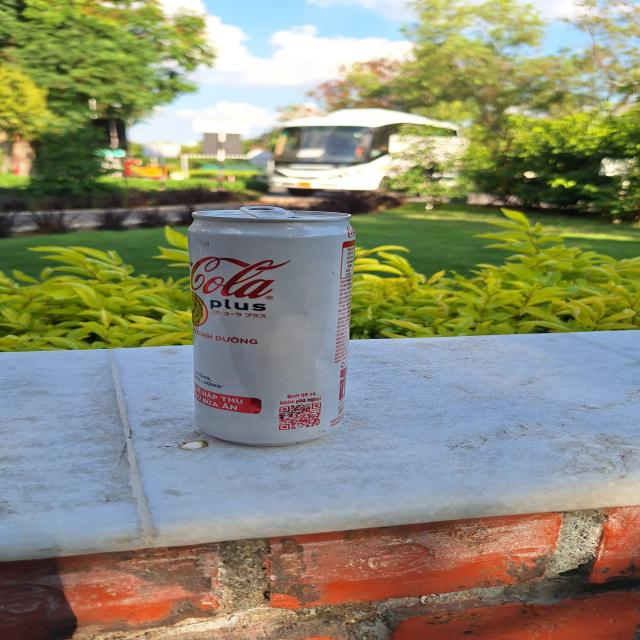Coca Cola Plus: (176, 204, 357, 449)
